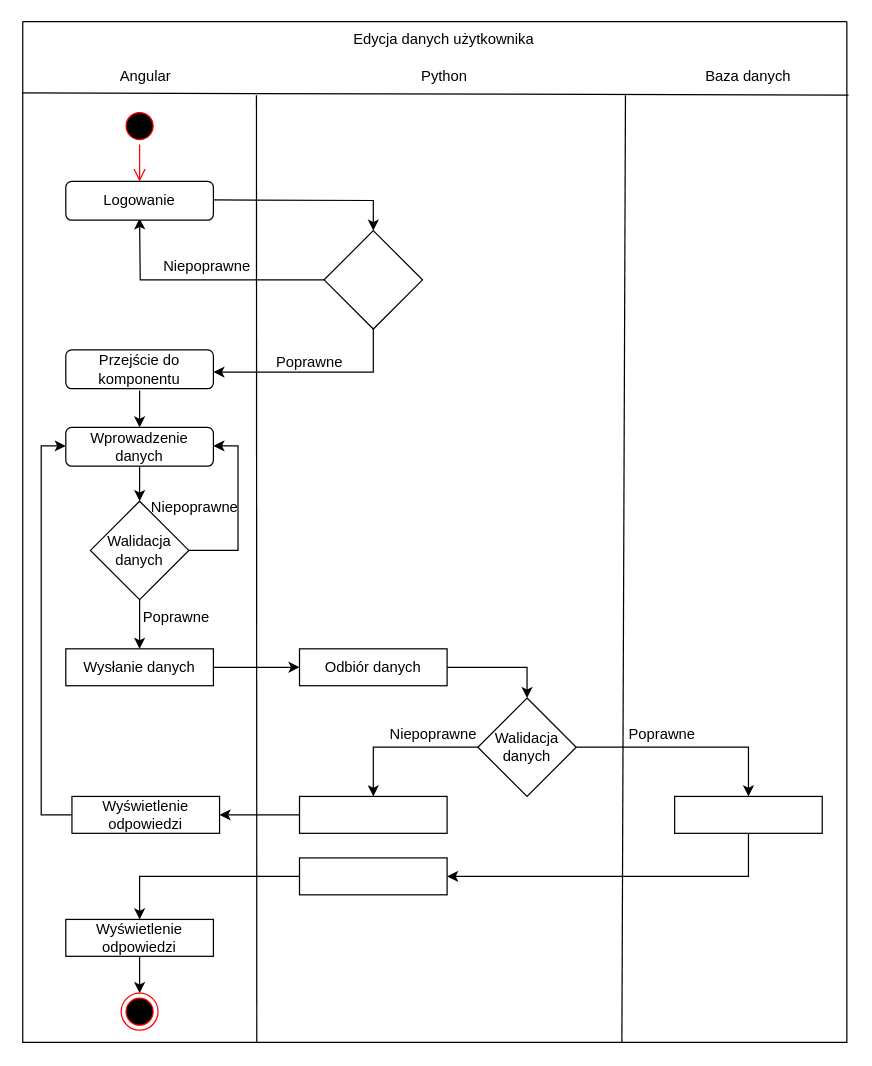
Some shapes in this 872 by 1066 pixel diagram are drawn without their labels. Each missing label, with the box of its shape:
Sprawdzenie danych: (323, 229, 423, 329)
Wysłanie informacji o błędzie: (298, 795, 447, 833)
Wysłanie pozytywnej odpowiedzi: (298, 857, 447, 895)
Zapis danych: (673, 795, 822, 833)
